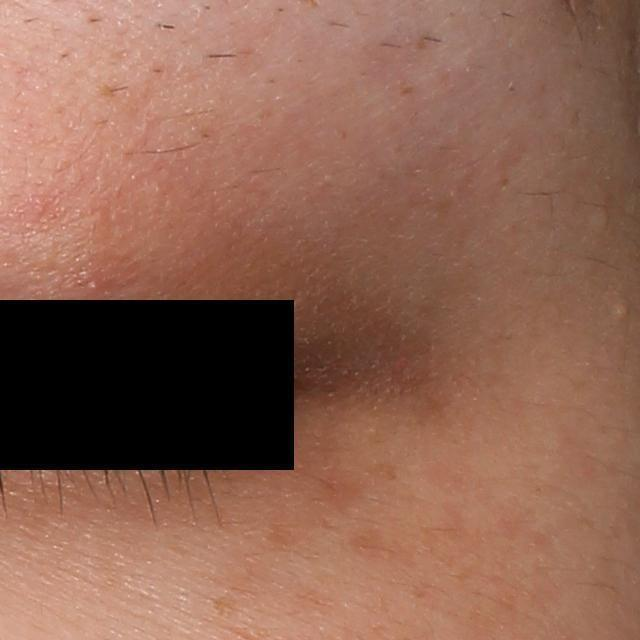comedo: (614, 297, 634, 322)
melasma: (313, 459, 403, 521), (210, 596, 240, 619)
